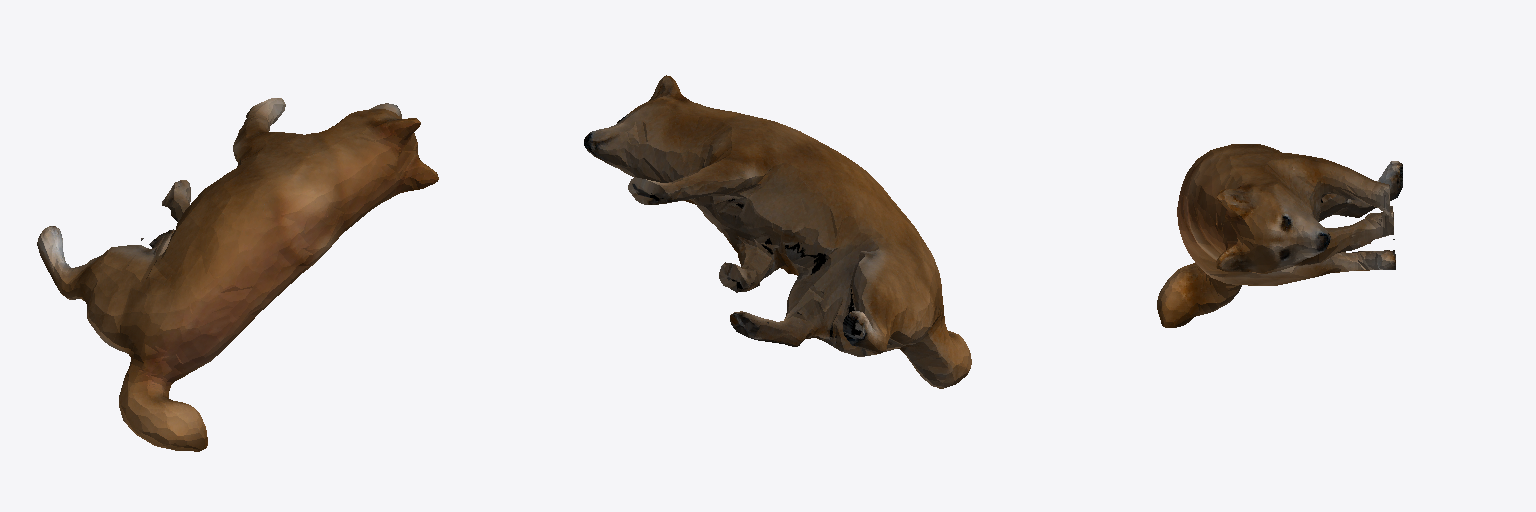
The picture shows the model from 3 angles: view 1: azimuth 30°, elevation 25°; view 2: azimuth 150°, elevation 25°; view 3: azimuth 270°, elevation 25°; orthographic projection.
Bounding box in the file's own units: 0.6056 × 0.4498 × 0.3945.
Materials: 1 (1 with a texture image).